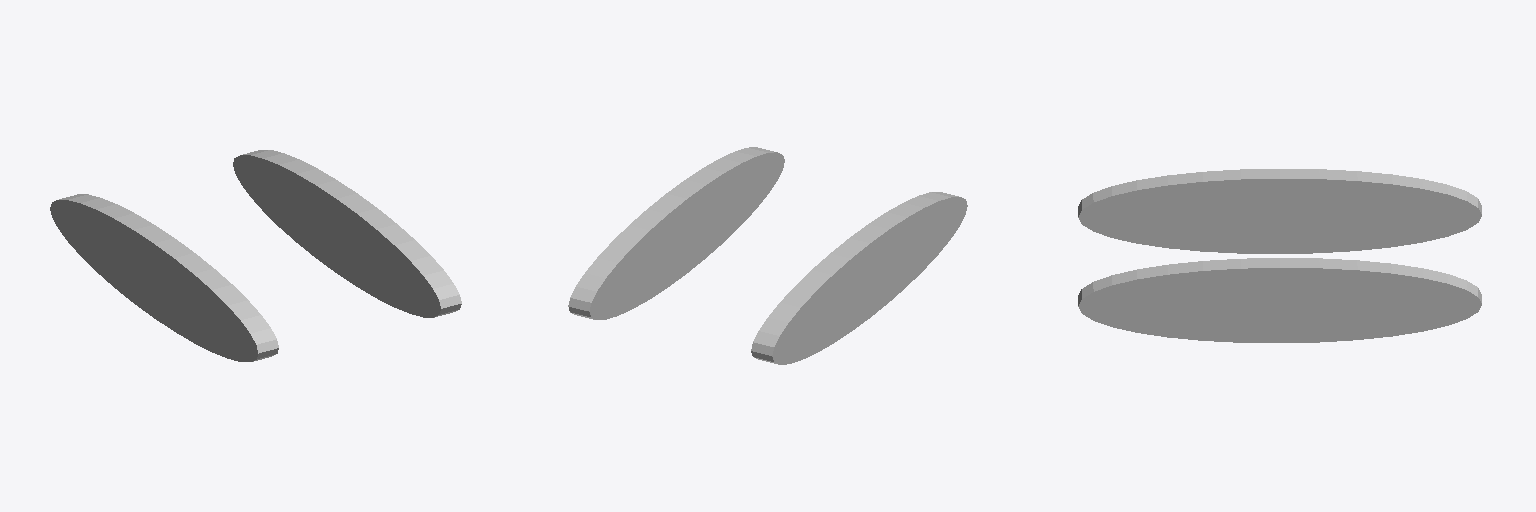
The model's file is senile.obj.
The picture shows the model from 3 angles: view 1: azimuth 30°, elevation 25°; view 2: azimuth 150°, elevation 25°; view 3: azimuth 270°, elevation 25°; orthographic projection.
Parts seen in each view (by area): view 1: Cylinder.001; view 2: Cylinder.001; view 3: Cylinder.001.
Boxes of the visible parts, x1=… form: Cylinder.001: x1=50, y1=150, x2=461, y2=361; Cylinder.001: x1=568, y1=147, x2=967, y2=364; Cylinder.001: x1=1078, y1=169, x2=1481, y2=342.
Bounding box in the file's own units: 1.22 × 0.4201 × 2.04.